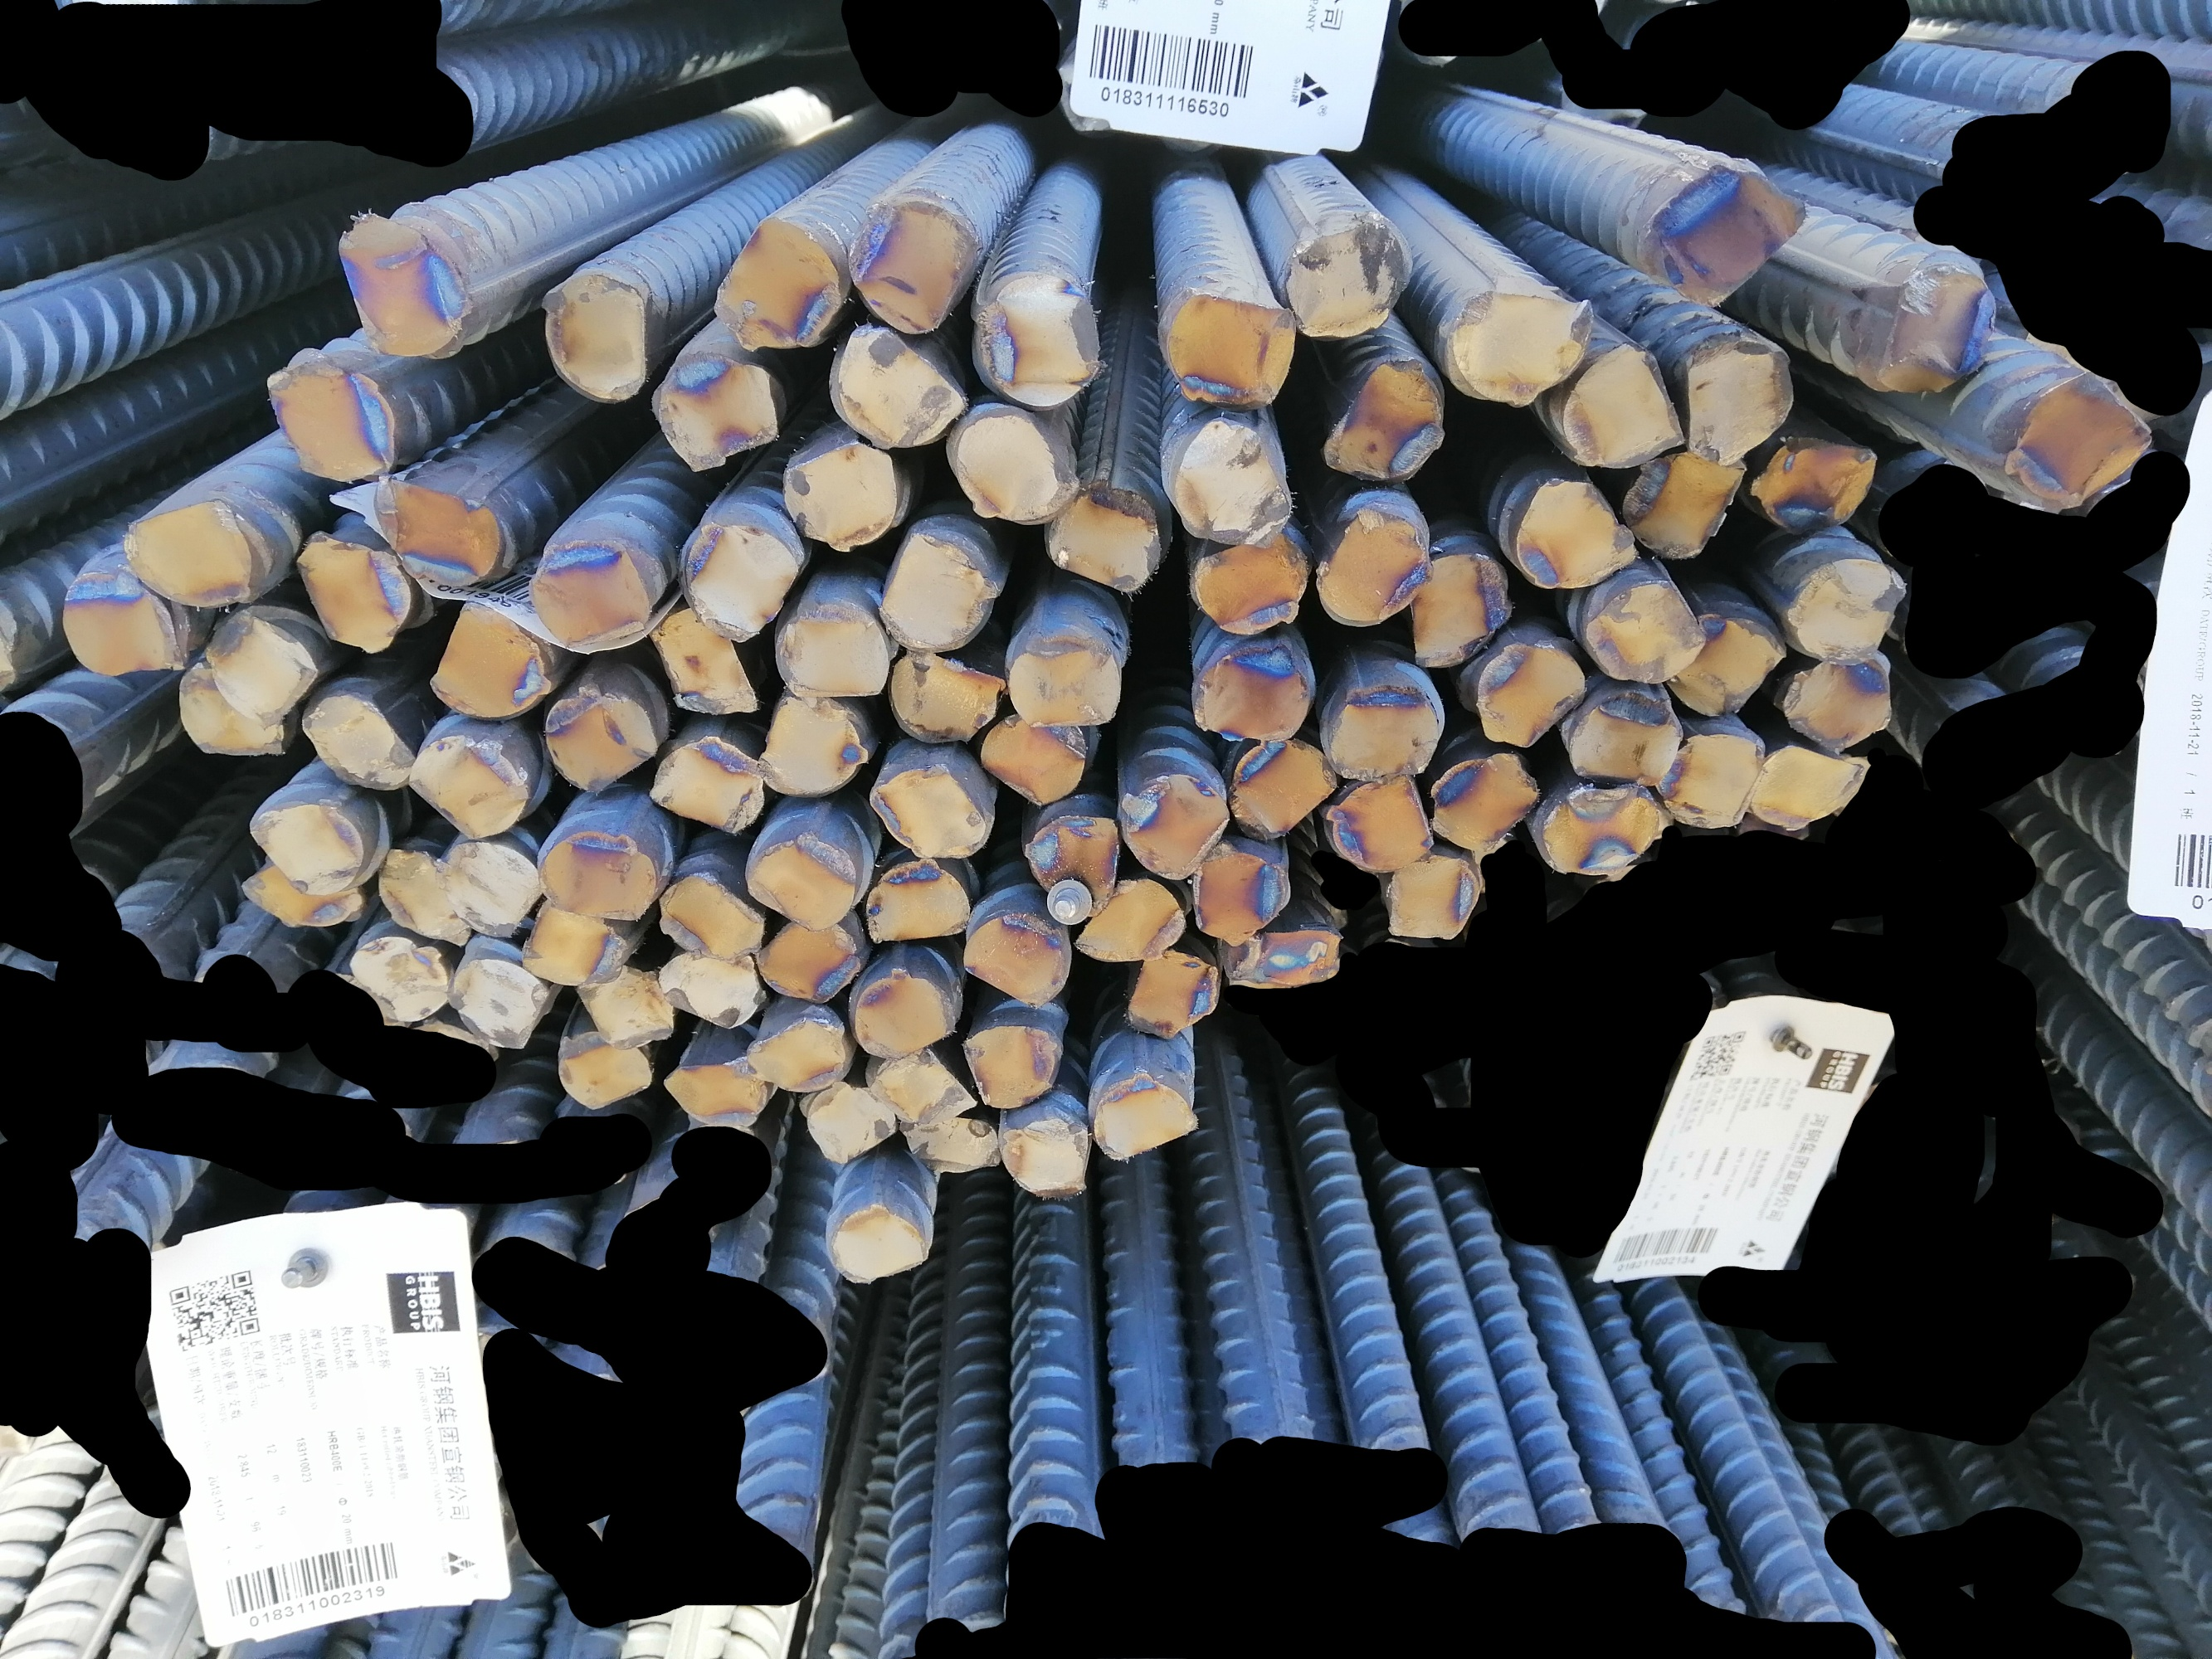rebar: (1992, 368, 2158, 526), (1642, 162, 1816, 308), (335, 206, 471, 362), (1858, 256, 2003, 397), (711, 211, 845, 357), (845, 190, 978, 336), (828, 319, 967, 455), (1440, 282, 1590, 408), (1157, 284, 1299, 415), (974, 270, 1103, 411), (263, 352, 401, 483), (1557, 338, 1689, 471), (1171, 410, 1299, 547), (528, 260, 650, 399), (879, 523, 1004, 657), (1677, 329, 1797, 467), (1511, 465, 1639, 594), (291, 526, 415, 657), (648, 350, 783, 471), (1325, 354, 1445, 488), (1279, 220, 1408, 343), (680, 512, 800, 643), (366, 476, 502, 591), (126, 498, 260, 612), (427, 599, 551, 718), (947, 408, 1067, 528), (777, 436, 899, 554), (532, 537, 666, 643), (544, 681, 666, 798), (1665, 601, 1787, 718), (1783, 554, 1910, 666), (1618, 448, 1745, 559), (1571, 577, 1703, 681), (63, 566, 183, 681), (406, 730, 532, 840), (1750, 434, 1881, 537), (1044, 484, 1161, 599), (296, 681, 418, 791), (1471, 634, 1588, 748), (204, 605, 316, 723), (1187, 532, 1309, 640), (643, 730, 770, 833), (776, 596, 894, 706), (1187, 640, 1311, 744), (1121, 770, 1231, 887), (173, 657, 293, 763), (1008, 627, 1128, 734), (1320, 505, 1426, 626), (1410, 549, 1511, 674), (1426, 746, 1541, 856), (870, 749, 987, 857), (755, 695, 872, 803), (1220, 735, 1340, 840), (535, 824, 661, 924), (1536, 779, 1668, 873), (1747, 741, 1874, 836), (650, 601, 757, 714), (1658, 720, 1764, 833), (1567, 681, 1682, 786), (743, 828, 858, 931), (1776, 655, 1893, 756), (1330, 678, 1440, 784), (1020, 805, 1123, 918), (887, 652, 1006, 749), (436, 835, 546, 939), (959, 910, 1072, 1009), (248, 803, 364, 899), (983, 709, 1091, 810), (955, 1019, 1063, 1119), (1089, 1066, 1201, 1162), (516, 896, 629, 990), (1075, 877, 1189, 971), (1191, 847, 1292, 951), (1330, 770, 1436, 870), (654, 868, 767, 960), (373, 840, 471, 946), (847, 965, 959, 1058), (343, 931, 448, 1026), (1123, 950, 1225, 1046), (1382, 849, 1485, 945), (450, 945, 544, 1047), (572, 964, 678, 1053), (743, 1012, 851, 1100), (828, 1199, 933, 1288), (994, 1114, 1096, 1202), (753, 920, 865, 1002), (797, 1079, 898, 1168), (863, 861, 969, 945), (863, 1049, 976, 1127), (239, 864, 364, 934), (547, 1026, 654, 1108), (657, 950, 767, 1028), (657, 1061, 769, 1131), (1225, 929, 1347, 992), (898, 1112, 997, 1182)
